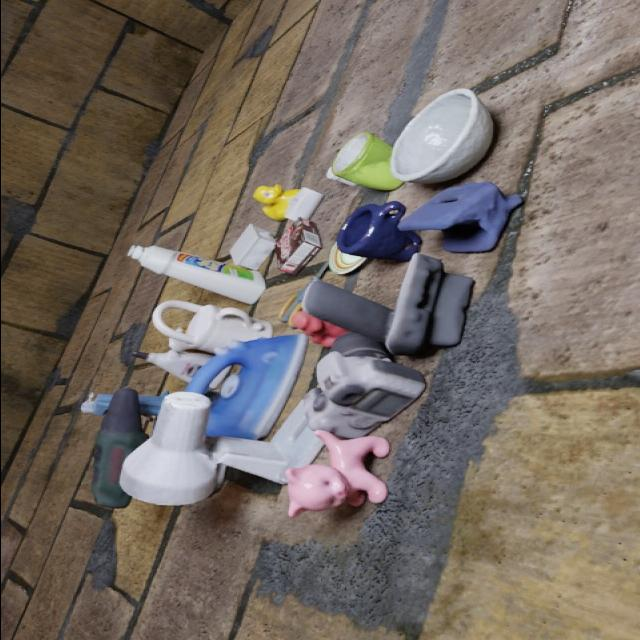Other Objects: (304, 333, 424, 437), (389, 88, 492, 183), (384, 252, 471, 355), (285, 430, 387, 516), (397, 182, 521, 252), (127, 245, 264, 303), (151, 300, 271, 353), (303, 280, 391, 350), (336, 201, 419, 261), (327, 131, 401, 190), (275, 217, 320, 274), (139, 349, 211, 382), (289, 310, 348, 347), (228, 224, 273, 269), (252, 184, 297, 220), (284, 187, 321, 220), (328, 244, 367, 274)
